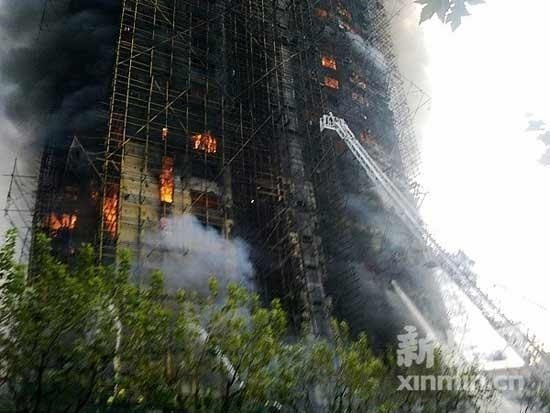fire: (98, 189, 120, 230), (157, 158, 174, 203), (44, 209, 76, 231), (191, 129, 218, 151), (320, 53, 337, 68)
